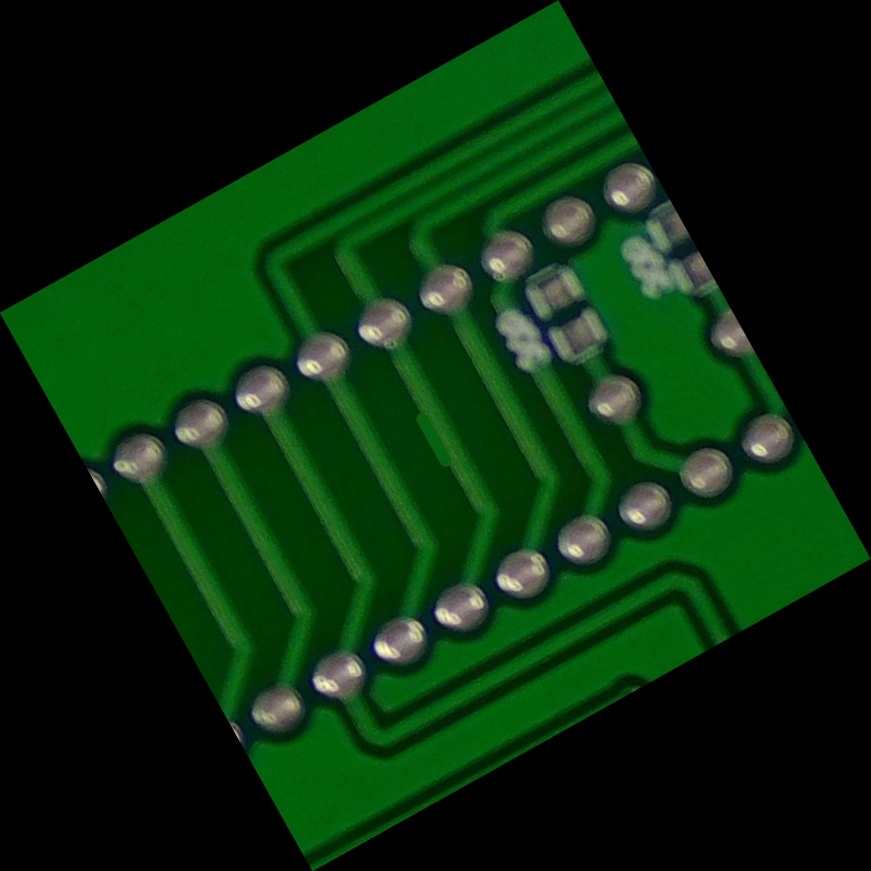spur: (399, 392, 473, 480)
